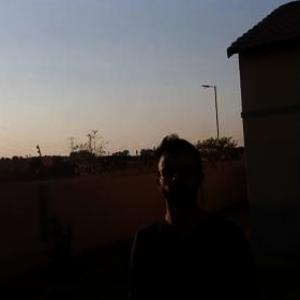follow: (120, 136, 260, 299)
